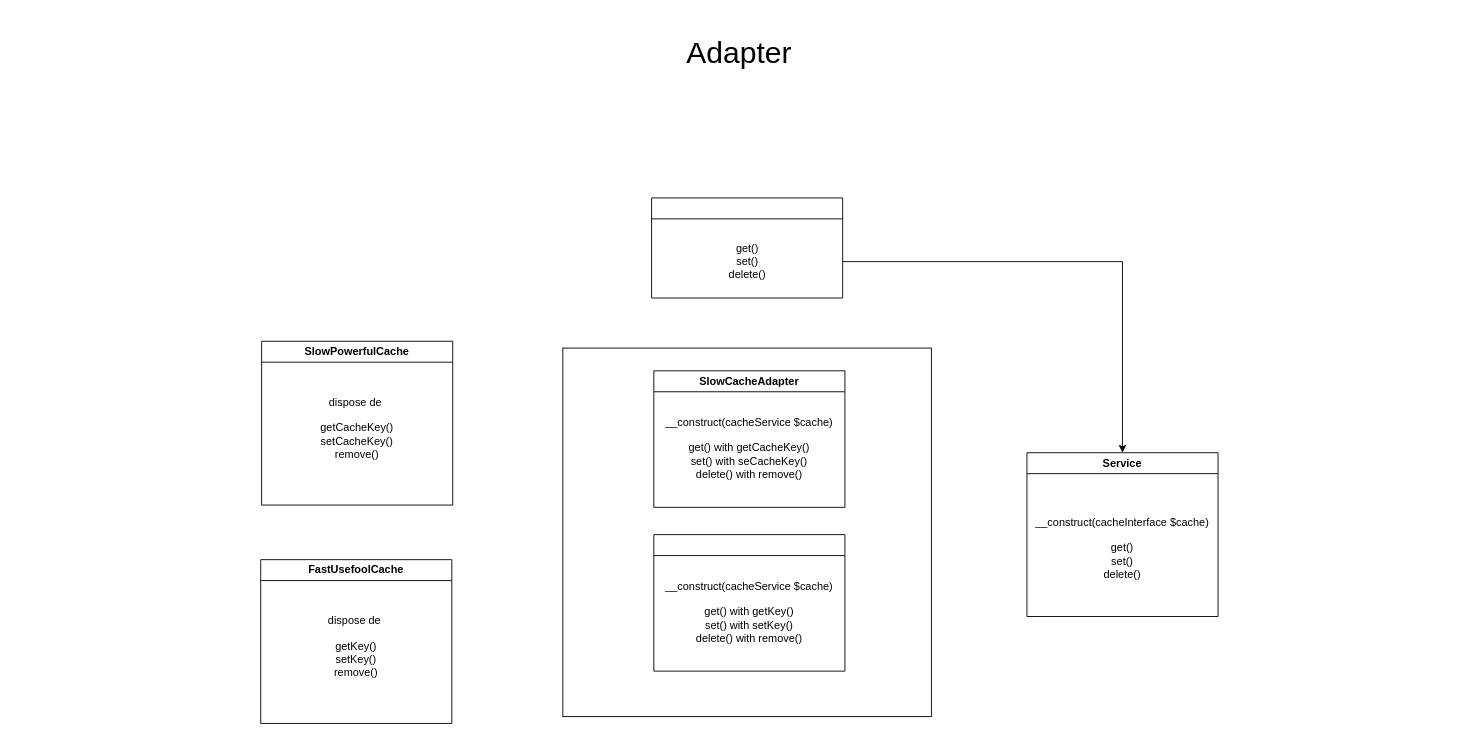
The diagram is 1478 pixels wide and 739 high, and some of its shapes have lost their labels. Each missing label, with the box of its shape:
CacheInterface: (651, 197, 843, 298)
FastCacheAdapter: (653, 534, 845, 671)
